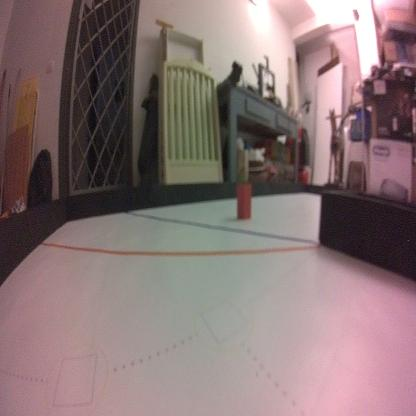red: (236, 180, 252, 221)
